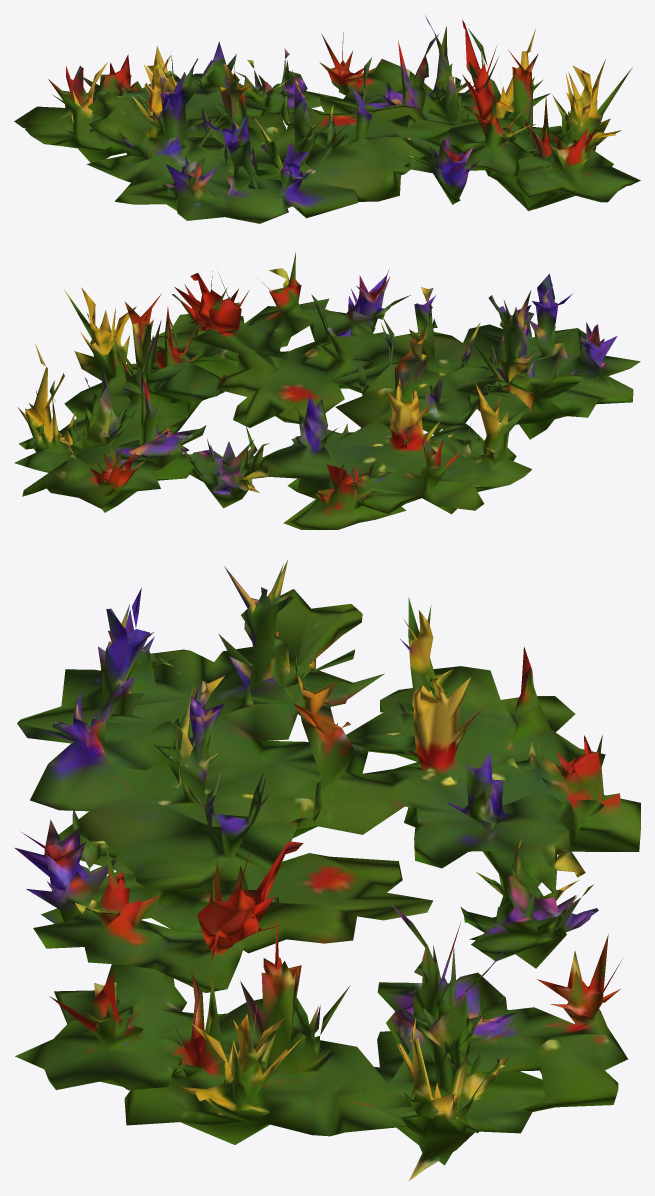
Rendered from flower_patch.glb.
3 renders of one model, top to bottom at view 1: azimuth 30°, elevation 25°; view 2: azimuth 150°, elevation 25°; view 3: azimuth 270°, elevation 25°, orthographic. The views are drawn at different scales.
Visible parts, largest first — view 1: tripo_node_af2ece5c-e923-4e0d-8ee2-c9122196e9d2; view 2: tripo_node_af2ece5c-e923-4e0d-8ee2-c9122196e9d2; view 3: tripo_node_af2ece5c-e923-4e0d-8ee2-c9122196e9d2.
Boxes of the visible parts, x1=… form: tripo_node_af2ece5c-e923-4e0d-8ee2-c9122196e9d2: x1=14, y1=15, x2=640, y2=223; tripo_node_af2ece5c-e923-4e0d-8ee2-c9122196e9d2: x1=14, y1=252, x2=640, y2=529; tripo_node_af2ece5c-e923-4e0d-8ee2-c9122196e9d2: x1=14, y1=559, x2=640, y2=1180.
Bounding box in the file's own units: 0.9301 × 0.4126 × 0.6426.
1 material, 1 textured.
